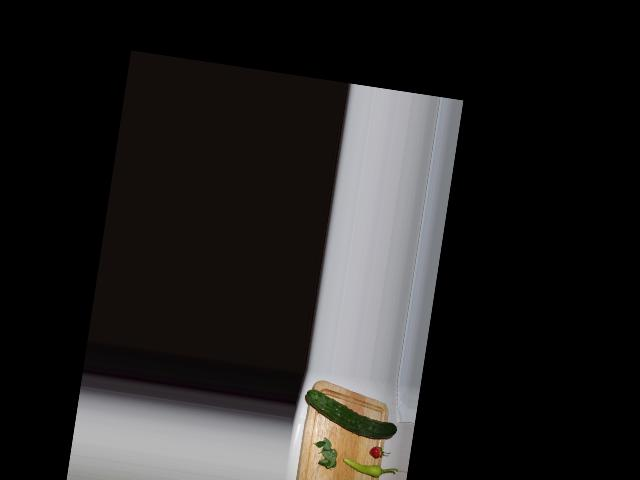cucumber: (301, 388, 400, 441)
